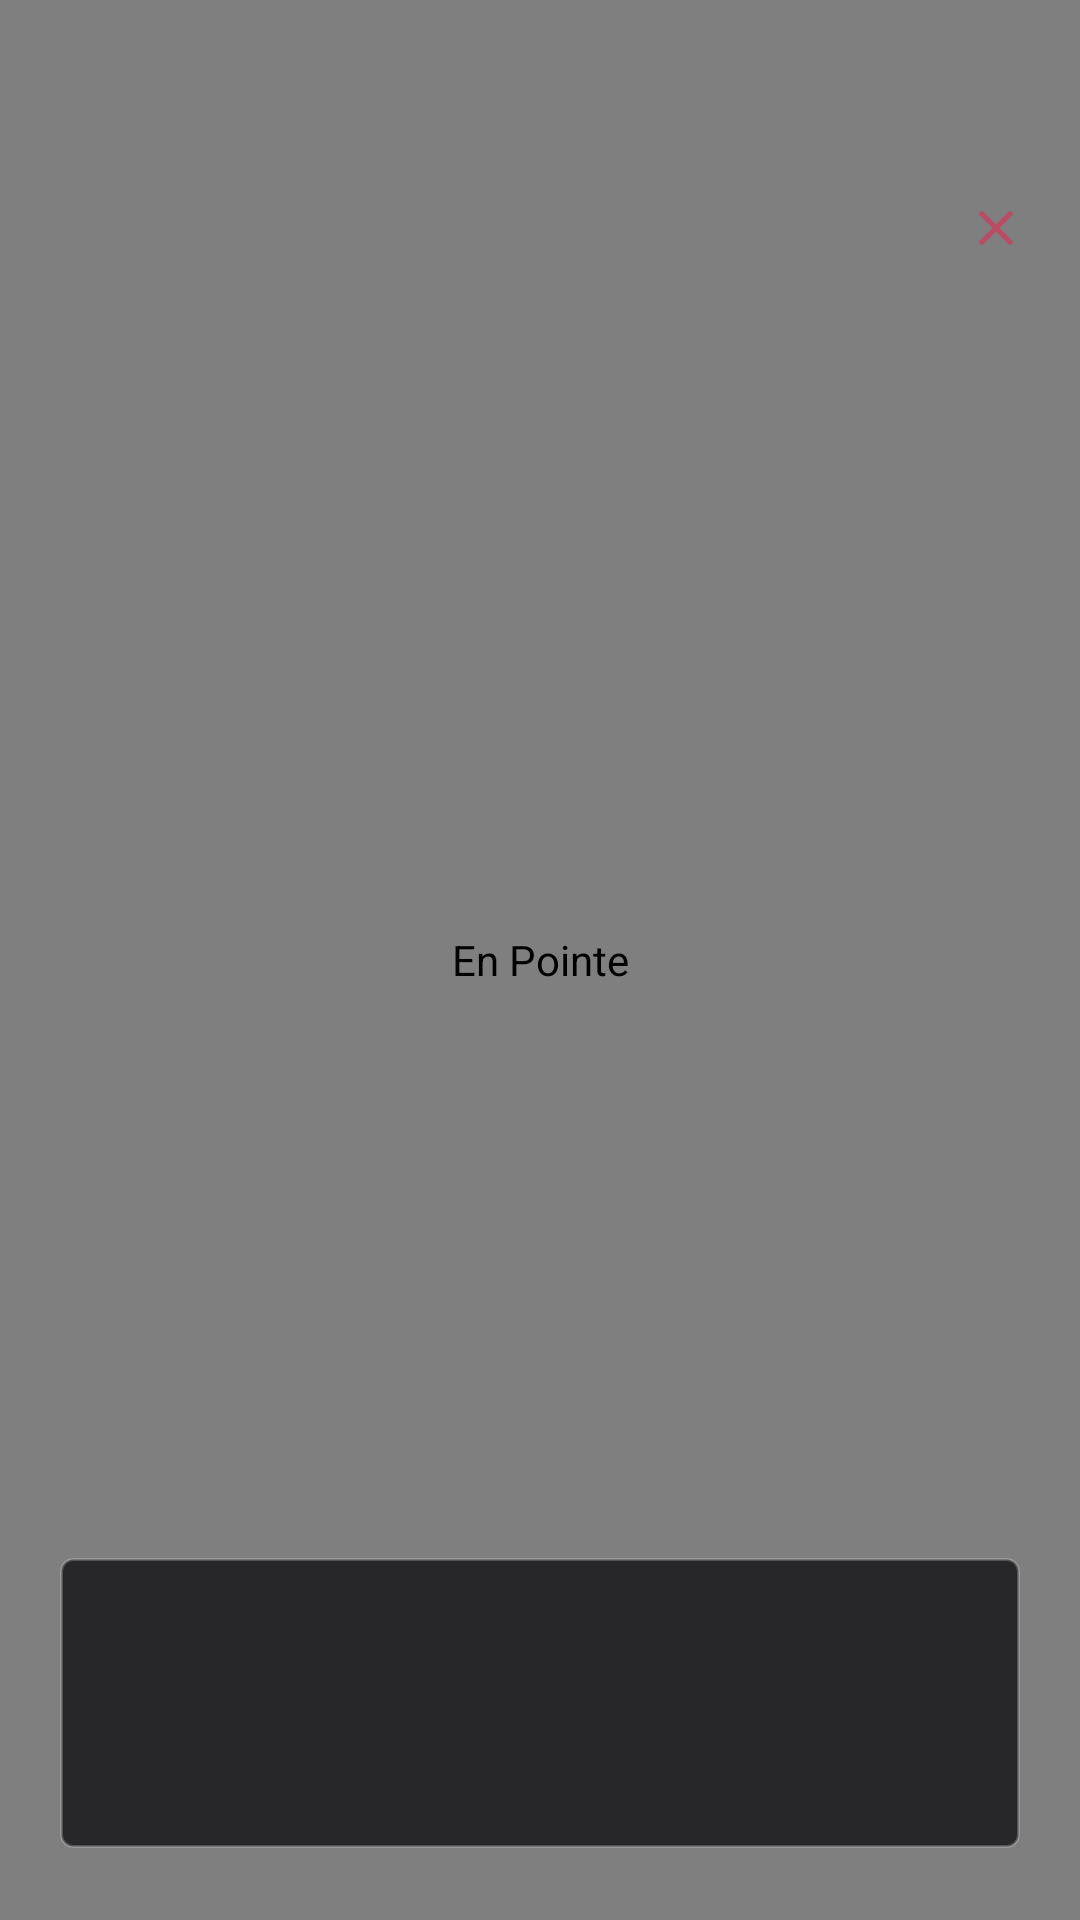

Icon click points for this 1080x1920 phone screenshot, format (x=x, y=y):
Close: (x=996, y=228)
